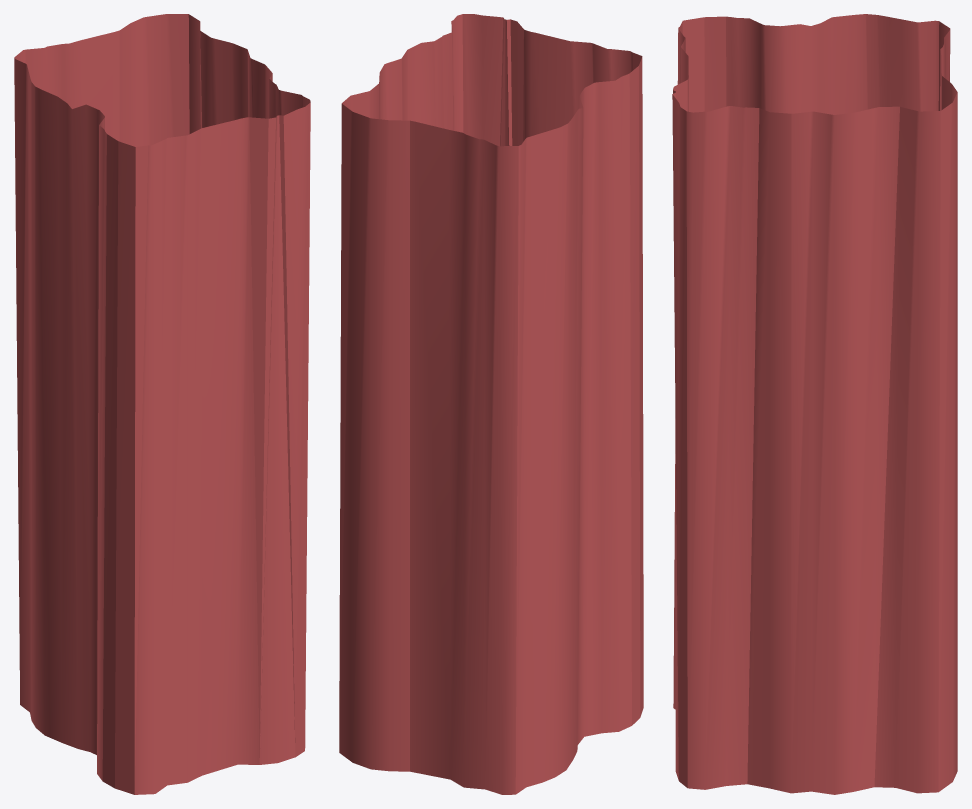
File: cluster_20.fbx
3 views of the same model, side by side, from view 1: azimuth 30°, elevation 25°; view 2: azimuth 150°, elevation 25°; view 3: azimuth 270°, elevation 25° (orthographic). The views are drawn at different scales.
Visible parts, largest first — view 1: cluster_20; view 2: cluster_20; view 3: cluster_20.
Boxes of the visible parts, <box> form: cluster_20: <box>14,14,310,794</box>; cluster_20: <box>339,14,643,794</box>; cluster_20: <box>672,14,957,794</box>.
Size of the model in its own units: 1101047 by 3442133 by 1308709.
